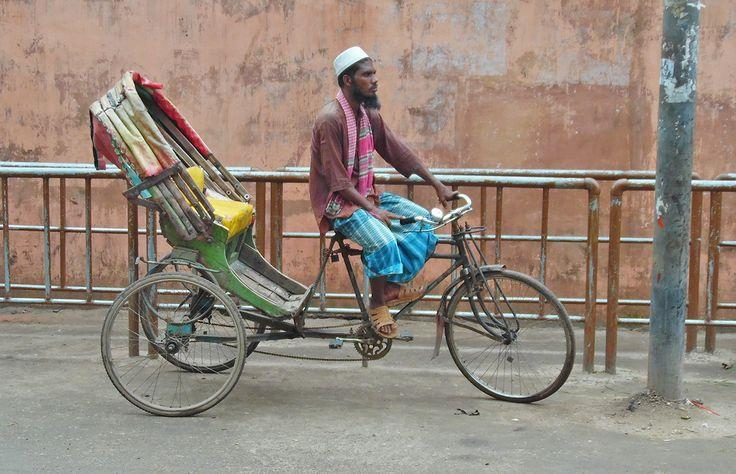Rickshaw: (90, 72, 391, 415)
